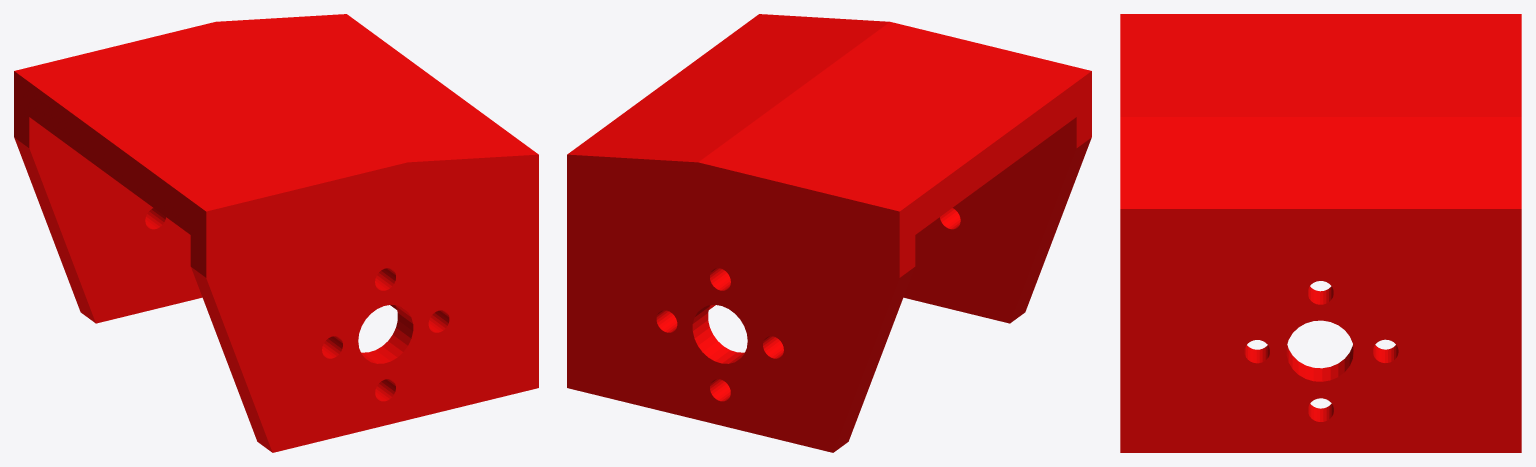
Rendered from Left_shoulder.dae.
3 views of the same model, side by side, from view 1: azimuth 30°, elevation 25°; view 2: azimuth 150°, elevation 25°; view 3: azimuth 270°, elevation 25° (orthographic). The views are drawn at different scales.
Visible parts, largest first — view 1: shoulder_left; view 2: shoulder_left; view 3: shoulder_left.
Part boxes in pixels (box(x1,y1,x2,y2)): shoulder_left: box(14, 14, 538, 452); shoulder_left: box(567, 14, 1091, 452); shoulder_left: box(1120, 14, 1521, 452).
Size of the model in its own units: 0.05 by 0.05 by 0.037.
